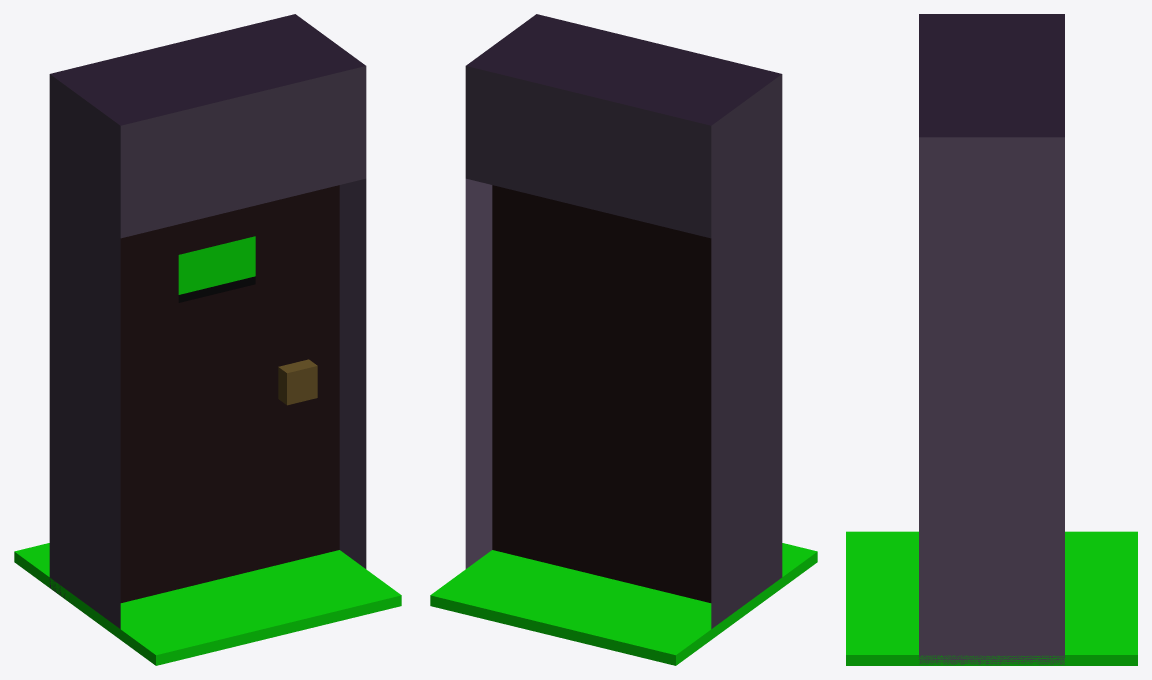
Rendered from doorKeycard_green_open.dae.
3 views of the same model, side by side, from view 1: azimuth 30°, elevation 25°; view 2: azimuth 150°, elevation 25°; view 3: azimuth 270°, elevation 25° (orthographic). The views are drawn at different scales.
Parts seen in each view (by area): view 1: frame_MSH, door_MSH; view 2: frame_MSH, door_MSH; view 3: frame_MSH.
Boxes of the visible parts, x1,y1,x2,y2 form: frame_MSH: [14, 14, 401, 665]; door_MSH: [120, 185, 339, 602]; frame_MSH: [430, 14, 817, 665]; door_MSH: [492, 185, 711, 602]; frame_MSH: [846, 14, 1137, 665].
Size of the model in its own units: 1 by 2 by 1.
